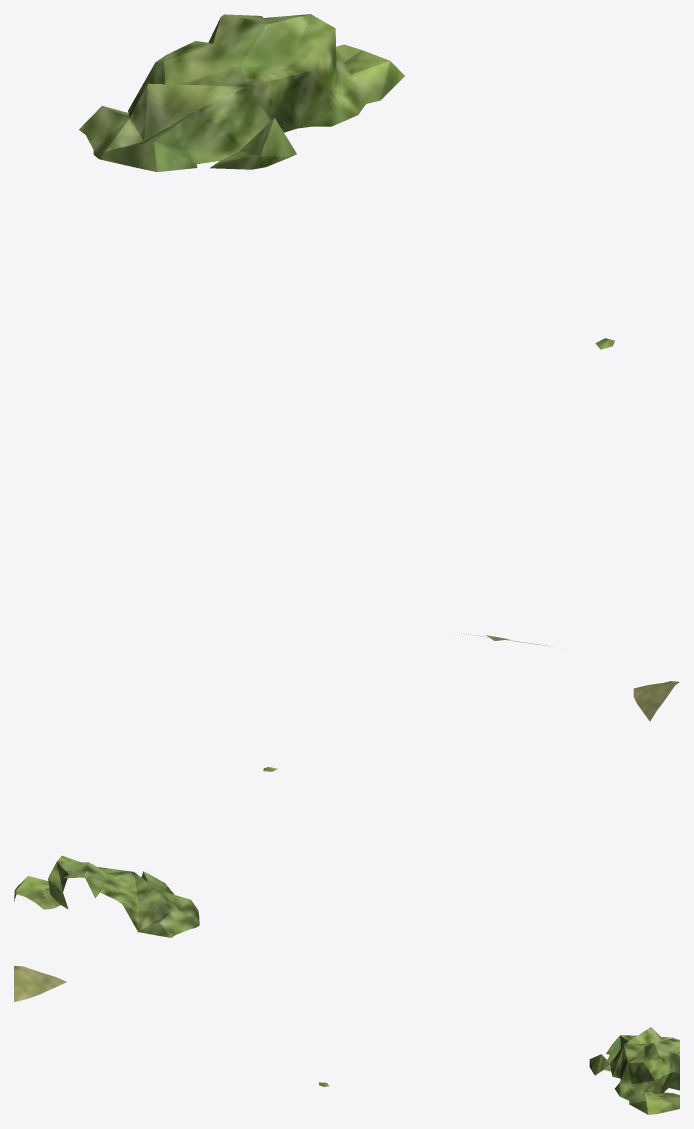
The picture shows the model from 3 angles, top to bottom: view 1: azimuth 30°, elevation 25°; view 2: azimuth 150°, elevation 25°; view 3: azimuth 270°, elevation 25°; orthographic projection. The views are drawn at different scales.
Size of the model in its own units: 12.33 by 1.71 by 26.11.
Materials: 1 (1 with a texture image).
